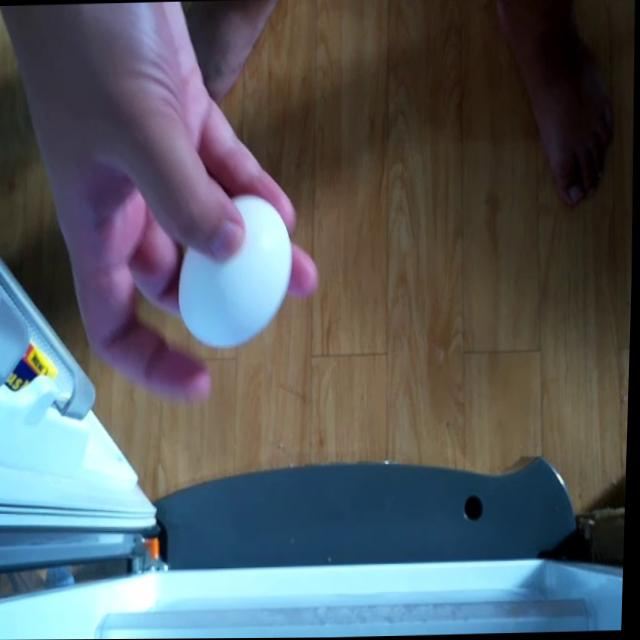egg: (179, 190, 301, 349)
